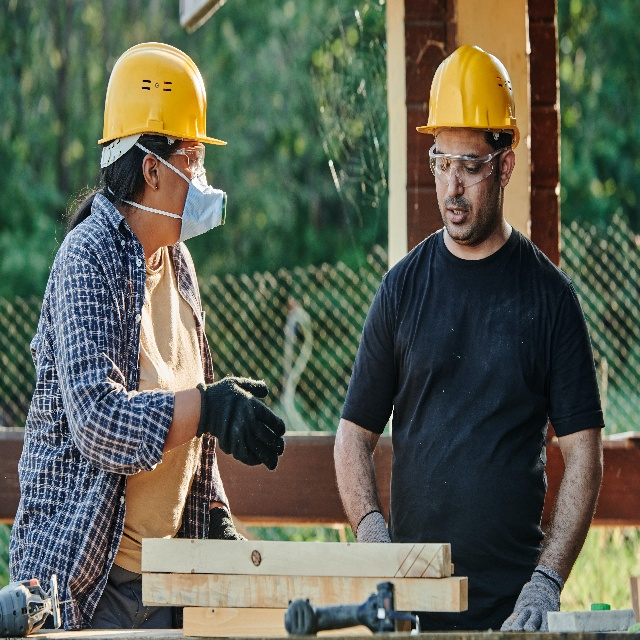Gafas: (428, 140, 515, 188), (160, 144, 205, 174)
Guantes: (196, 374, 286, 470), (500, 566, 565, 635)
Mascara: (108, 143, 227, 243)
